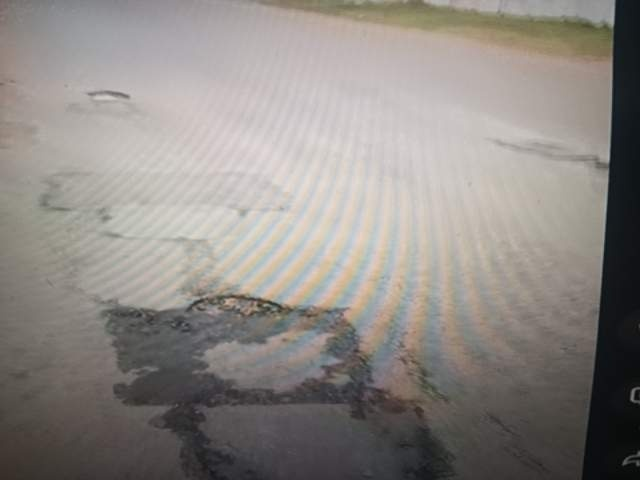pothole: (113, 403, 337, 480)
